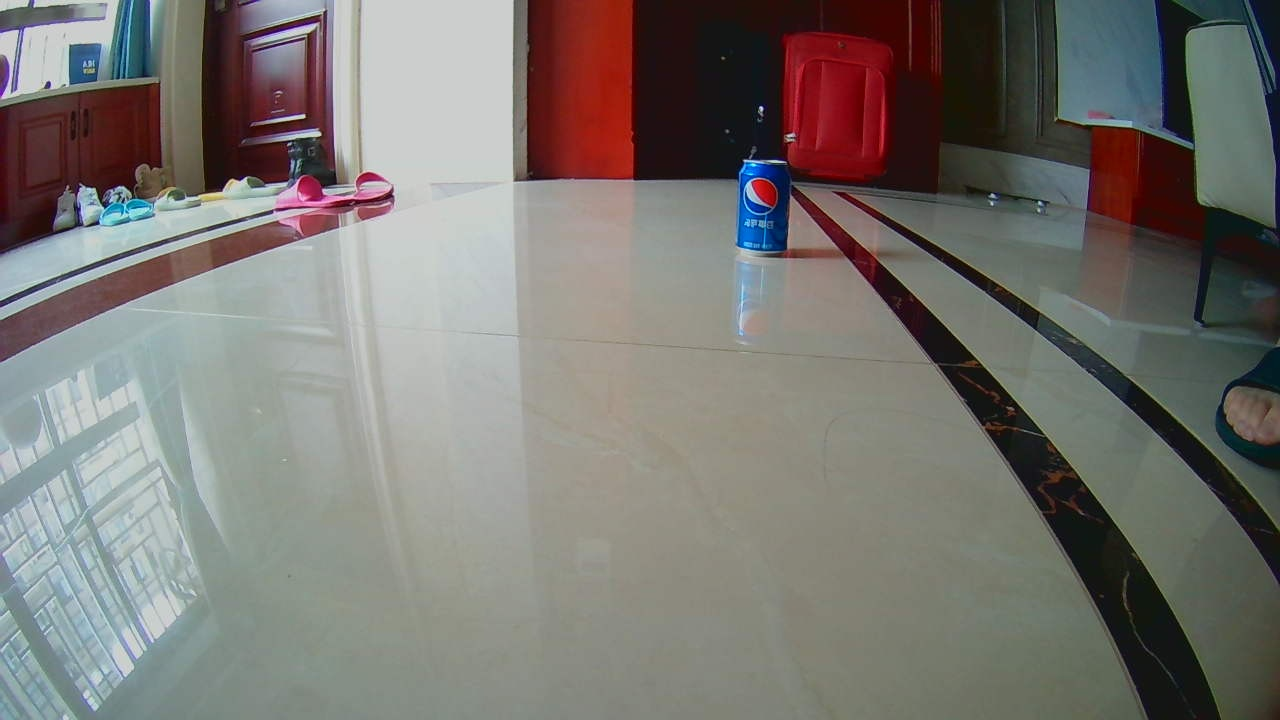pessi: (740, 158, 787, 254)
